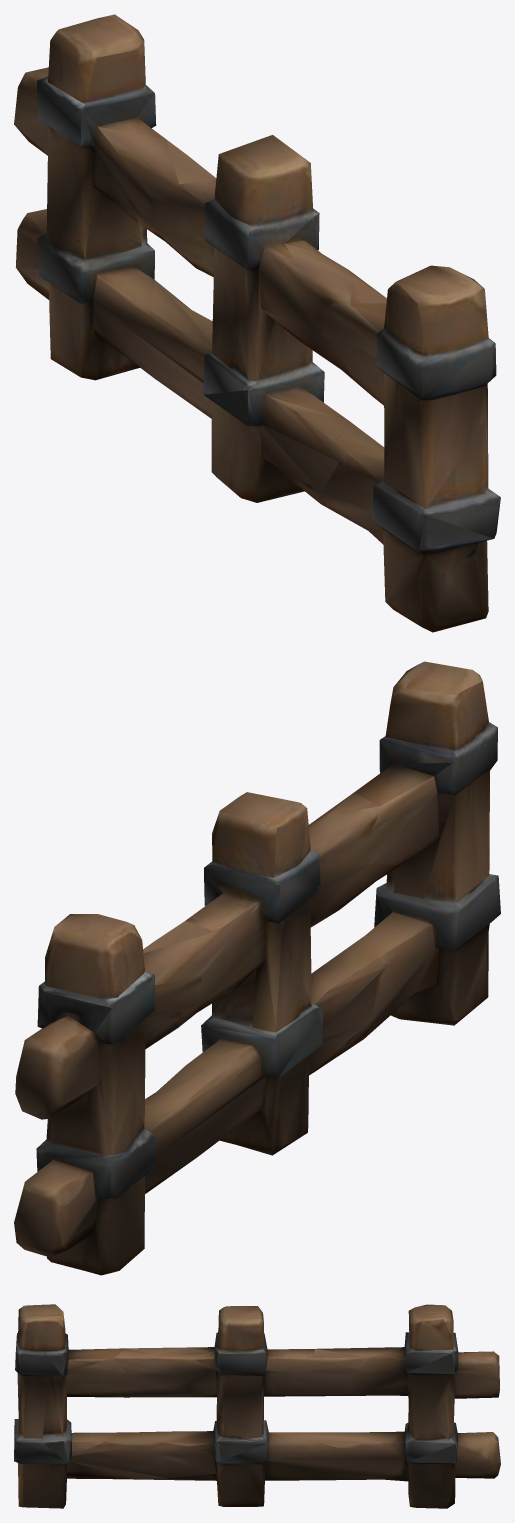
Rendered from fence_wood.glb.
The picture shows the model from 3 angles, top to bottom: view 1: azimuth 30°, elevation 25°; view 2: azimuth 150°, elevation 25°; view 3: azimuth 270°, elevation 25°; orthographic projection. The views are drawn at different scales.
Parts seen in each view (by area): view 1: tripo_node_e968b203-d712-4daf-bdc9-5a8979b5ed16; view 2: tripo_node_e968b203-d712-4daf-bdc9-5a8979b5ed16; view 3: tripo_node_e968b203-d712-4daf-bdc9-5a8979b5ed16.
Part boxes in pixels (x1,y1,x2,y2): tripo_node_e968b203-d712-4daf-bdc9-5a8979b5ed16: (14, 14, 500, 632); tripo_node_e968b203-d712-4daf-bdc9-5a8979b5ed16: (14, 661, 500, 1275); tripo_node_e968b203-d712-4daf-bdc9-5a8979b5ed16: (14, 1304, 500, 1508).
Bounding box in the file's own units: 0.1119 × 0.4196 × 0.9791.
Materials: 1 (1 with a texture image).
